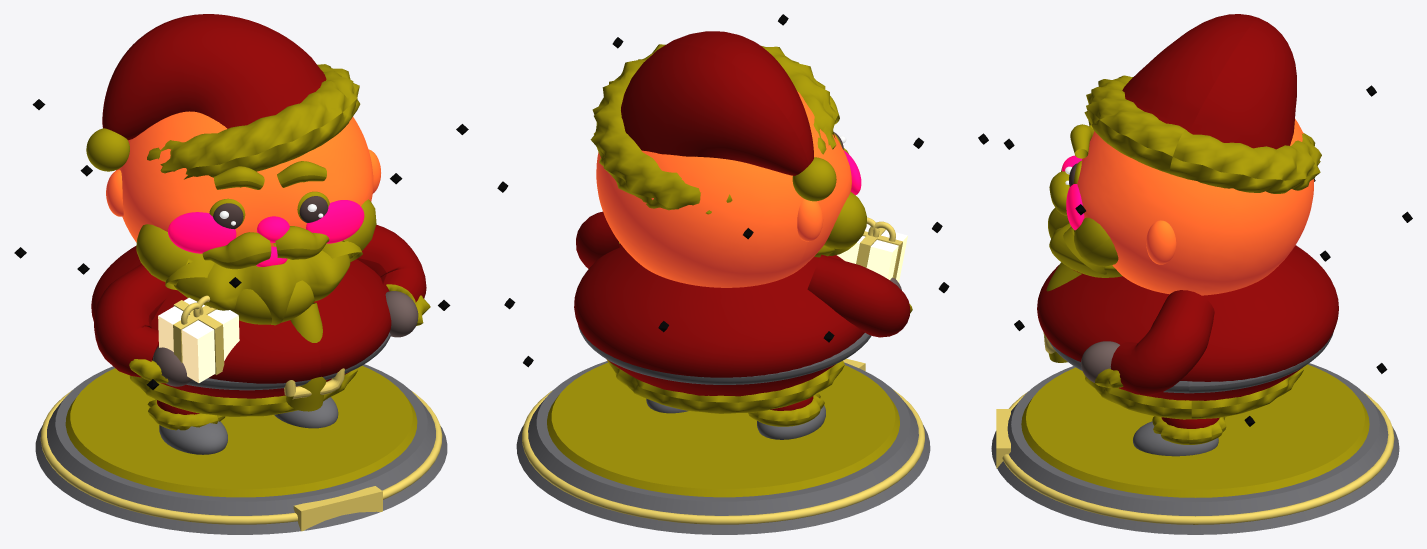
3 views of the same model, side by side, from view 1: azimuth 30°, elevation 25°; view 2: azimuth 150°, elevation 25°; view 3: azimuth 270°, elevation 25° (orthographic).
Parts seen in each view (by area): view 1: Nicklas_SantaClaus_v7_Sculpt, object 20, object 19, object 12, object 22, object 14, object 13, object 17, object 21, object 18, object 15, object 10 (+5 smaller); view 2: Nicklas_SantaClaus_v7_Sculpt, object 20, object 19, object 14, object 22, object 21; view 3: Nicklas_SantaClaus_v7_Sculpt, object 20, object 19, object 15, object 12, object 18, object 11.
Part boxes in pixels (box(x1,y1,x2,y2)): Nicklas_SantaClaus_v7_Sculpt: box(14, 99, 468, 534); object 20: box(102, 14, 326, 140); object 19: box(147, 64, 360, 179); object 12: box(173, 250, 350, 325); object 22: box(158, 297, 239, 382); object 14: box(136, 224, 214, 290); object 13: box(233, 280, 314, 324); object 17: box(202, 232, 271, 269); object 21: box(86, 128, 129, 171); object 18: box(273, 226, 329, 259); object 15: box(322, 199, 376, 261); object 10: box(214, 166, 264, 189); Nicklas_SantaClaus_v7_Sculpt: box(497, 14, 949, 534); object 20: box(621, 31, 813, 175); object 19: box(590, 44, 838, 214); object 14: box(824, 192, 866, 255); object 22: box(837, 224, 907, 282); object 21: box(792, 157, 836, 201); Nicklas_SantaClaus_v7_Sculpt: box(978, 85, 1412, 534); object 20: box(1122, 14, 1296, 149); object 19: box(1084, 75, 1321, 193); object 15: box(1063, 217, 1118, 274); object 12: box(1048, 208, 1122, 277); object 18: box(1049, 171, 1069, 215); object 11: box(1070, 124, 1094, 158).
Size of the model in its own units: 3.54 by 3.73 by 3.54.
